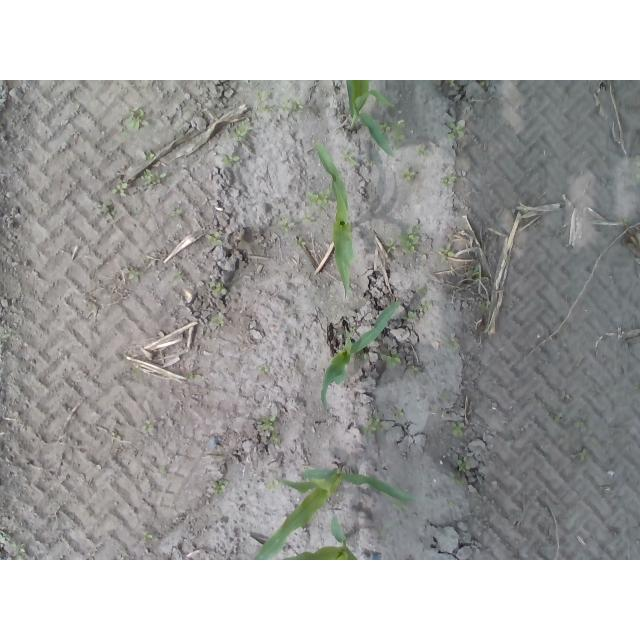Maize: (254, 457, 421, 559), (321, 302, 402, 413), (316, 141, 356, 299), (340, 80, 397, 157), (277, 510, 361, 560)
Weeds: (256, 88, 305, 112), (377, 120, 407, 145), (401, 301, 431, 323), (399, 223, 417, 257), (262, 416, 280, 445), (233, 119, 253, 141), (126, 110, 146, 131), (446, 120, 467, 140), (9, 541, 28, 560), (364, 417, 385, 433), (142, 170, 162, 186), (208, 281, 228, 296), (385, 351, 400, 370), (211, 479, 226, 498), (206, 231, 225, 245), (310, 191, 329, 205), (112, 180, 128, 196), (222, 154, 240, 167), (342, 151, 358, 165), (402, 167, 416, 182), (437, 247, 456, 258), (128, 270, 145, 282), (451, 421, 464, 435), (415, 147, 433, 157), (458, 459, 471, 471), (141, 419, 152, 433), (141, 151, 156, 161), (441, 176, 456, 186), (294, 238, 307, 249), (212, 315, 225, 326), (469, 265, 480, 276), (385, 240, 395, 252), (280, 218, 288, 232), (393, 408, 404, 417), (256, 364, 268, 372), (144, 531, 153, 541), (448, 471, 457, 481), (449, 499, 457, 509), (273, 480, 280, 489)
